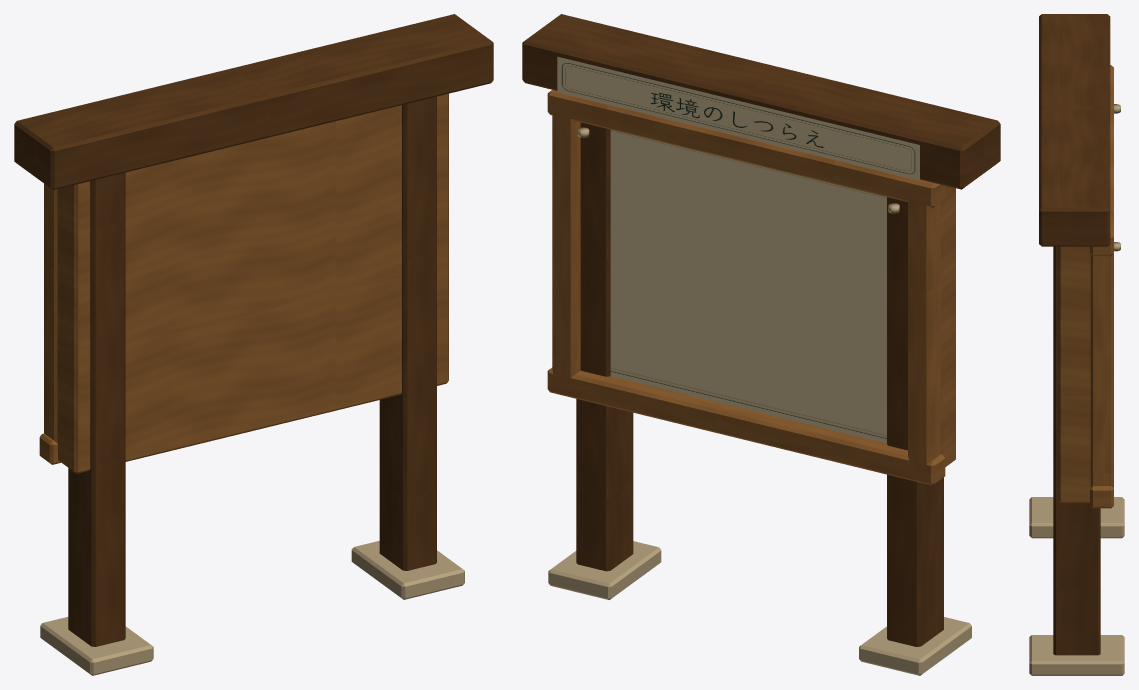
File: yokocho-entry-display-frame.glb
3 renders of one model, left to right at view 1: azimuth 30°, elevation 25°; view 2: azimuth 150°, elevation 25°; view 3: azimuth 270°, elevation 25°, orthographic. The views are drawn at different scales.
Parts seen in each view (by area): view 1: EntryPlaza/SystemsFrame/Back__EntryHeartwood, EntryPlaza/SystemsFrame/Post__EntryDarkTimber, EntryPlaza/SystemsFrame/Crown__EntryDarkTimber, EntryPlaza/SystemsFrame/Foot__EntryPatinatedBrass, EntryPlaza/SystemsFrame/FrameStile__EntryHeartwood; view 2: EntryPlaza/SystemsFrame/Print__EntryControlPrint, EntryPlaza/SystemsFrame/Post__EntryDarkTimber, EntryPlaza/SystemsFrame/Crown__EntryDarkTimber, EntryPlaza/SystemsFrame/FrameRail__EntryHeartwood, EntryPlaza/SystemsFrame/FrameStile__EntryHeartwood, EntryPlaza/SystemsFrame/Header__EntryControlHeader, EntryPlaza/SystemsFrame/Foot__EntryPatinatedBrass, EntryPlaza/SystemsFrame/Back__EntryHeartwood; view 3: EntryPlaza/SystemsFrame/Crown__EntryDarkTimber, EntryPlaza/SystemsFrame/Post__EntryDarkTimber, EntryPlaza/SystemsFrame/Back__EntryHeartwood, EntryPlaza/SystemsFrame/FrameStile__EntryHeartwood, EntryPlaza/SystemsFrame/Foot__EntryPatinatedBrass, EntryPlaza/SystemsFrame/FrameRail__EntryHeartwood.
Boxes of the visible parts, x1,y1,x2,y2 form: EntryPlaza/SystemsFrame/Back__EntryHeartwood: (57, 93, 448, 473); EntryPlaza/SystemsFrame/Post__EntryDarkTimber: (68, 96, 436, 646); EntryPlaza/SystemsFrame/Crown__EntryDarkTimber: (14, 14, 493, 189); EntryPlaza/SystemsFrame/Foot__EntryPatinatedBrass: (40, 540, 464, 675); EntryPlaza/SystemsFrame/FrameStile__EntryHeartwood: (44, 183, 57, 442); EntryPlaza/SystemsFrame/Print__EntryControlPrint: (610, 130, 886, 443); EntryPlaza/SystemsFrame/Post__EntryDarkTimber: (576, 122, 943, 646); EntryPlaza/SystemsFrame/Crown__EntryDarkTimber: (522, 14, 1000, 189); EntryPlaza/SystemsFrame/FrameRail__EntryHeartwood: (547, 90, 945, 485); EntryPlaza/SystemsFrame/FrameStile__EntryHeartwood: (552, 100, 940, 480); EntryPlaza/SystemsFrame/Header__EntryControlHeader: (557, 56, 919, 180); EntryPlaza/SystemsFrame/Foot__EntryPatinatedBrass: (548, 541, 971, 675); EntryPlaza/SystemsFrame/Back__EntryHeartwood: (940, 185, 955, 466); EntryPlaza/SystemsFrame/Crown__EntryDarkTimber: (1039, 14, 1110, 246); EntryPlaza/SystemsFrame/Post__EntryDarkTimber: (1053, 246, 1100, 655); EntryPlaza/SystemsFrame/Back__EntryHeartwood: (1058, 246, 1090, 503); EntryPlaza/SystemsFrame/FrameStile__EntryHeartwood: (1090, 253, 1113, 487); EntryPlaza/SystemsFrame/Foot__EntryPatinatedBrass: (1029, 497, 1124, 675); EntryPlaza/SystemsFrame/FrameRail__EntryHeartwood: (1090, 65, 1113, 508).
Bounding box in the file's own units: 1.95 × 2.24 × 0.4.
Materials: 5 (4 with a texture image).
